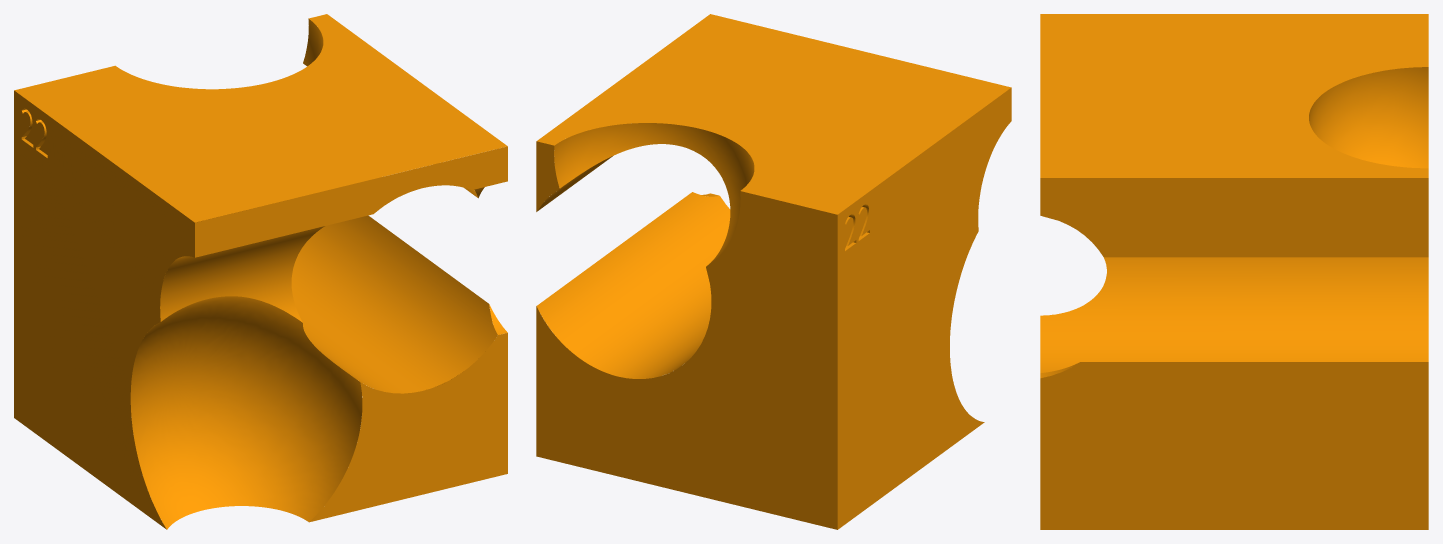
3 renders of one model, left to right at view 1: azimuth 30°, elevation 25°; view 2: azimuth 150°, elevation 25°; view 3: azimuth 270°, elevation 25°, orthographic. The views are drawn at different scales.
Visible parts, largest first — view 1: Layer 04; view 2: Layer 04; view 3: Layer 04.
Boxes of the visible parts, box(x1,y1,x2,y2) form: Layer 04: box(14, 14, 507, 529); Layer 04: box(536, 14, 1011, 529); Layer 04: box(1040, 14, 1428, 529).
Size of the model in its own units: 0.042 by 0.042 by 0.042.
